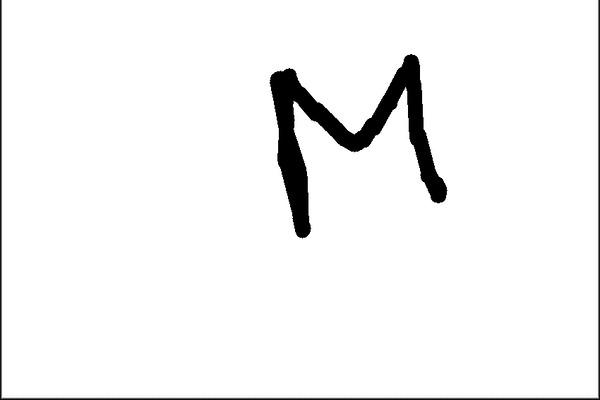M: (261, 53, 450, 239)
